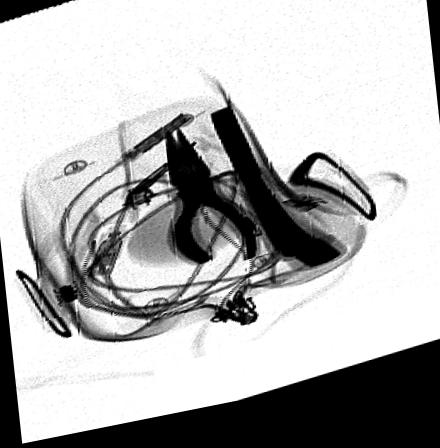Pliers: (203, 108, 344, 284), (162, 134, 262, 277)
